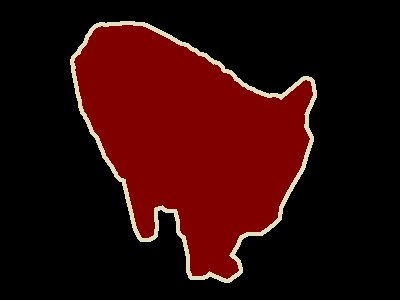cat: (76, 19, 316, 283)
